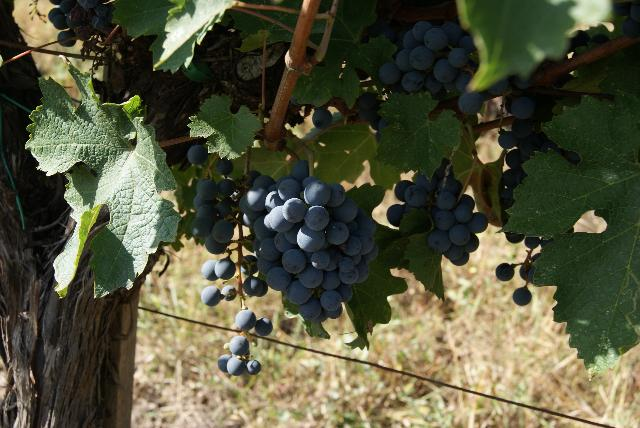grapes: (240, 161, 378, 322), (388, 159, 488, 265)
